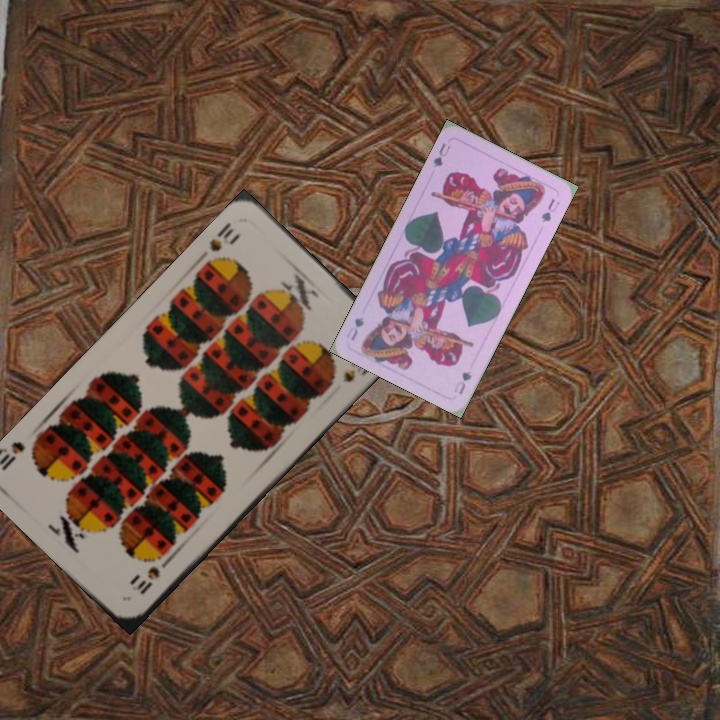GU: (429, 139, 453, 170), (450, 366, 474, 397)
S10: (127, 554, 173, 598), (205, 218, 243, 254)
